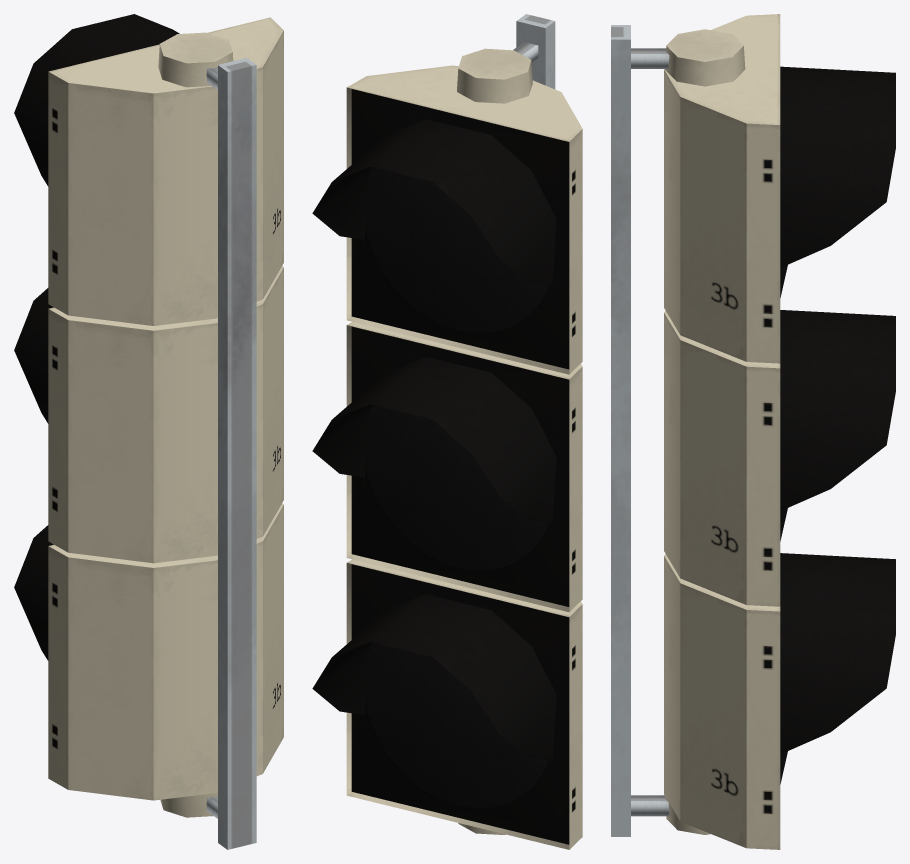
The model's file is TrafficSignal1.fbx.
3 views of the same model, side by side, from view 1: azimuth 30°, elevation 25°; view 2: azimuth 150°, elevation 25°; view 3: azimuth 270°, elevation 25° (orthographic). The views are drawn at different scales.
Visible parts, largest first — view 1: TrafficSignal1 #lod0; view 2: TrafficSignal1 #lod0; view 3: TrafficSignal1 #lod0.
Part boxes in pixels (x1=…): TrafficSignal1 #lod0: x1=14, y1=14, x2=283, y2=849; TrafficSignal1 #lod0: x1=312, y1=14, x2=582, y2=849; TrafficSignal1 #lod0: x1=611, y1=14, x2=895, y2=849.
Bounding box in the file's own units: 41.76 × 45.2 × 140.
Materials: 4 (4 with a texture image).
